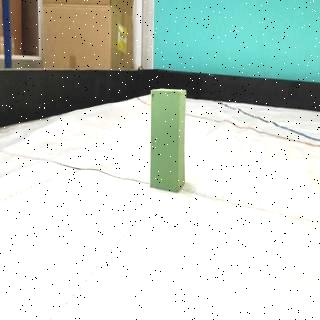greenbox: (148, 89, 186, 192)
